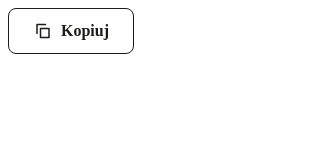
Test: CopyButton › takes translated labels
What coordinates should you click on to do the following:
click the button "Kopiuj"
I would click on:
 (71, 31)
Its box is [8, 8, 134, 54].
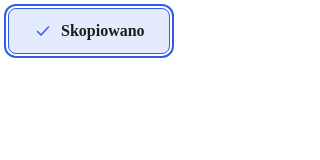
Expected: the button "Skopiowano" is shown, [8, 8, 170, 54]
